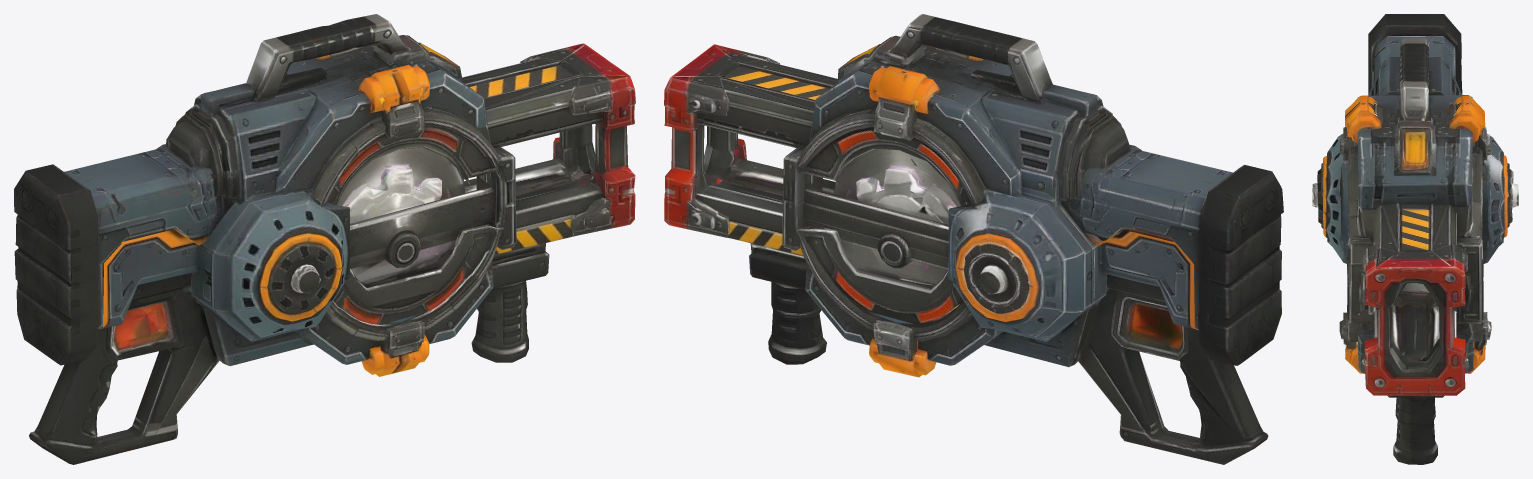
File: chainsaw_gun.glb
The picture shows the model from 3 angles, left to right: view 1: azimuth 30°, elevation 25°; view 2: azimuth 150°, elevation 25°; view 3: azimuth 270°, elevation 25°; orthographic projection. The views are drawn at different scales.
Parts seen in each view (by area): view 1: mesh_node; view 2: mesh_node; view 3: mesh_node.
Boxes of the visible parts, box(x1,y1,x2,y2) form: mesh_node: box(14, 14, 635, 464); mesh_node: box(664, 14, 1283, 464); mesh_node: box(1312, 14, 1518, 464).
Size of the model in its own units: 1 by 0.6132 by 0.3584.
Materials: 1 (1 with a texture image).
